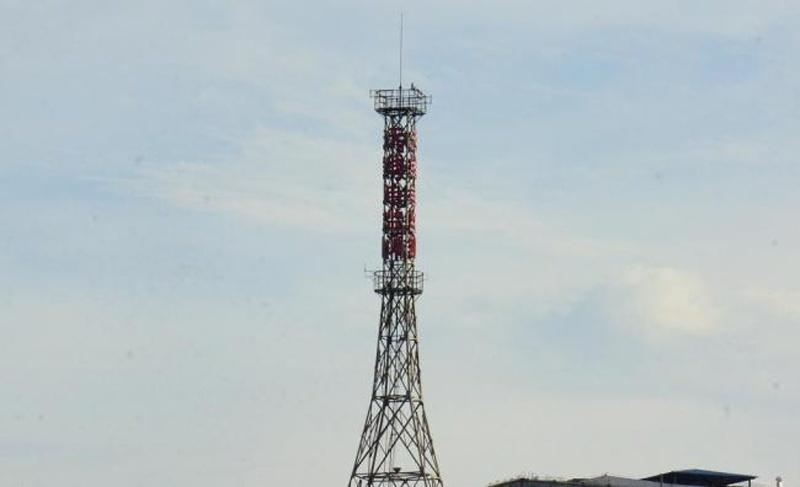power_tower: (338, 85, 451, 482)
